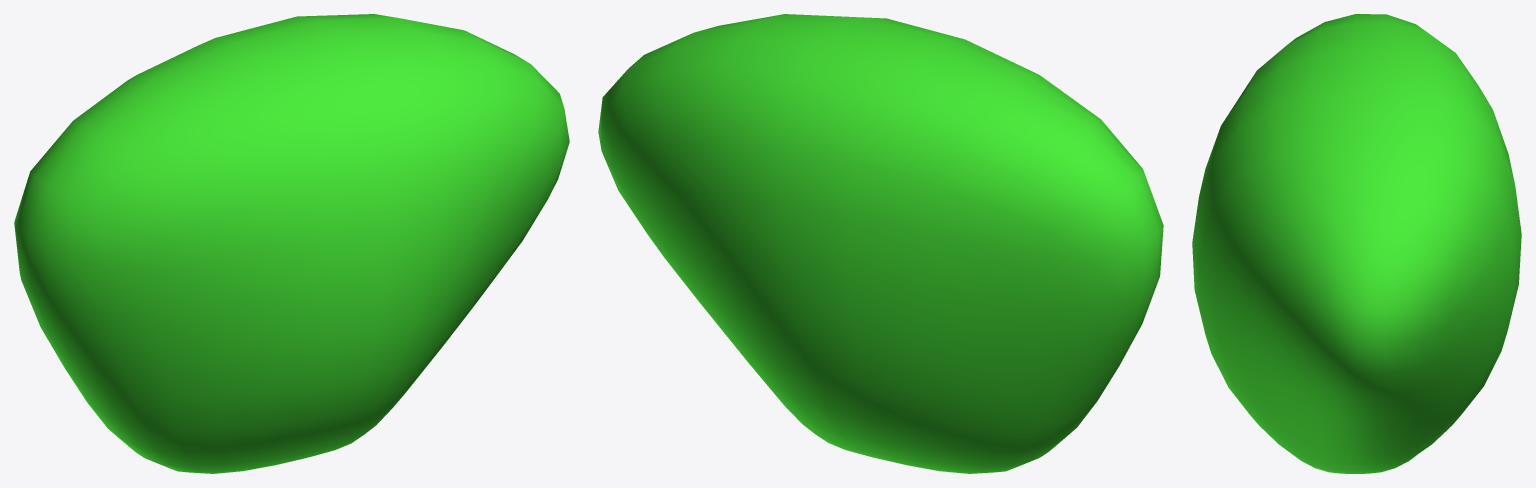
The model's file is Arbusto4.fbx.
The picture shows the model from 3 angles, left to right: view 1: azimuth 30°, elevation 25°; view 2: azimuth 150°, elevation 25°; view 3: azimuth 270°, elevation 25°; orthographic projection. The views are drawn at different scales.
Visible parts, largest first — view 1: arbusto; view 2: arbusto; view 3: arbusto.
Boxes of the visible parts, <box> form: arbusto: <box>14,14,569,473</box>; arbusto: <box>598,14,1163,473</box>; arbusto: <box>1192,14,1521,473</box>.
Bounding box in the file's own units: 363 × 257 × 194.
